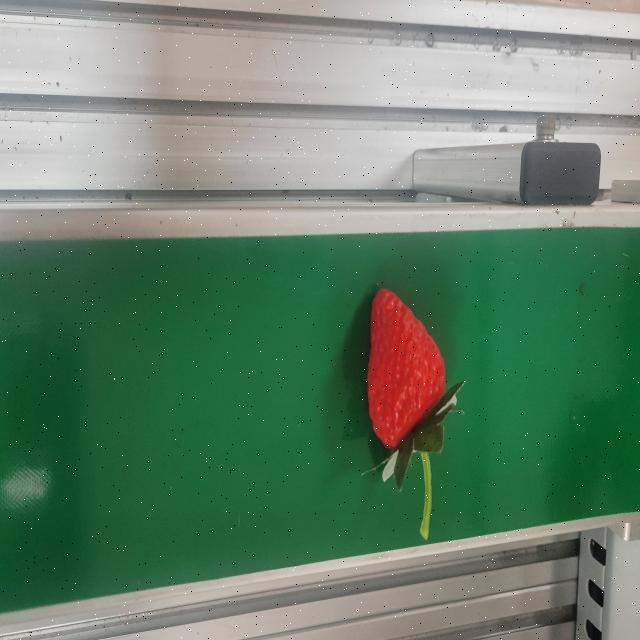Small Ripe Strawberry: (366, 284, 458, 476)
